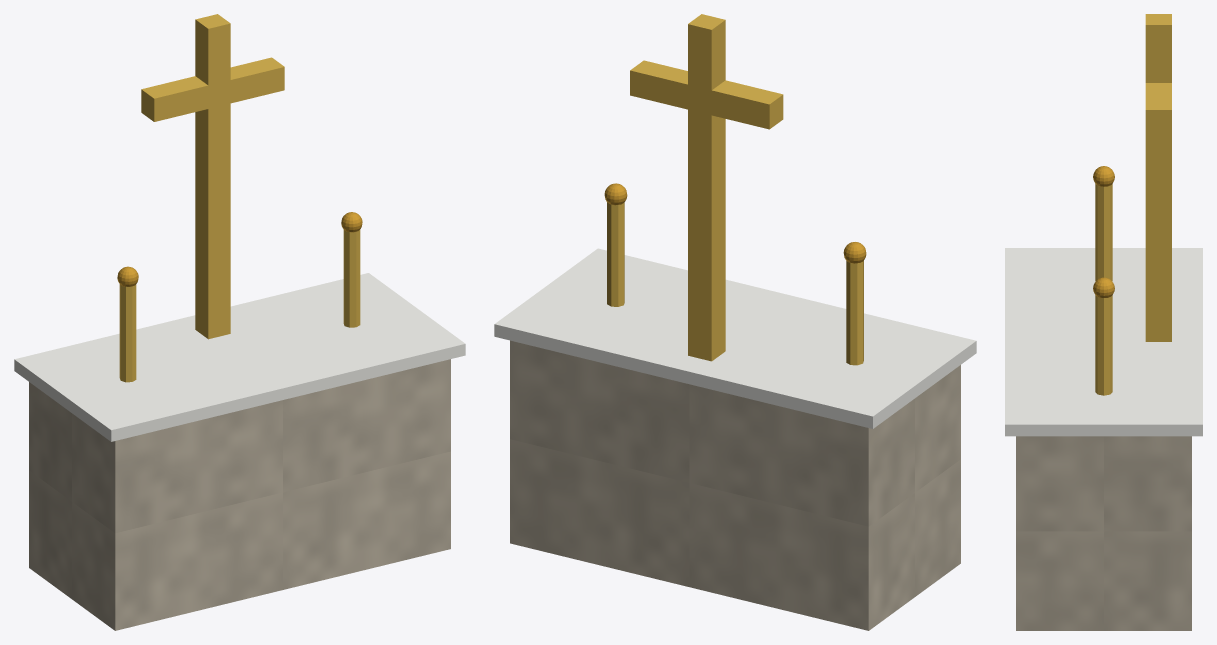
Rendered from oltarz.glb.
3 views of the same model, side by side, from view 1: azimuth 30°, elevation 25°; view 2: azimuth 150°, elevation 25°; view 3: azimuth 270°, elevation 25° (orthographic). The views are drawn at different scales.
Visible parts, largest first — view 1: oltarz; view 2: oltarz; view 3: oltarz.
Part boxes in pixels (bbox=[...]): oltarz: bbox=[14, 14, 465, 630]; oltarz: bbox=[494, 14, 976, 630]; oltarz: bbox=[1005, 14, 1202, 630].
Bounding box in the file's own units: 1.9 × 2.65 × 0.9.
Materials: 4 (1 with a texture image).
